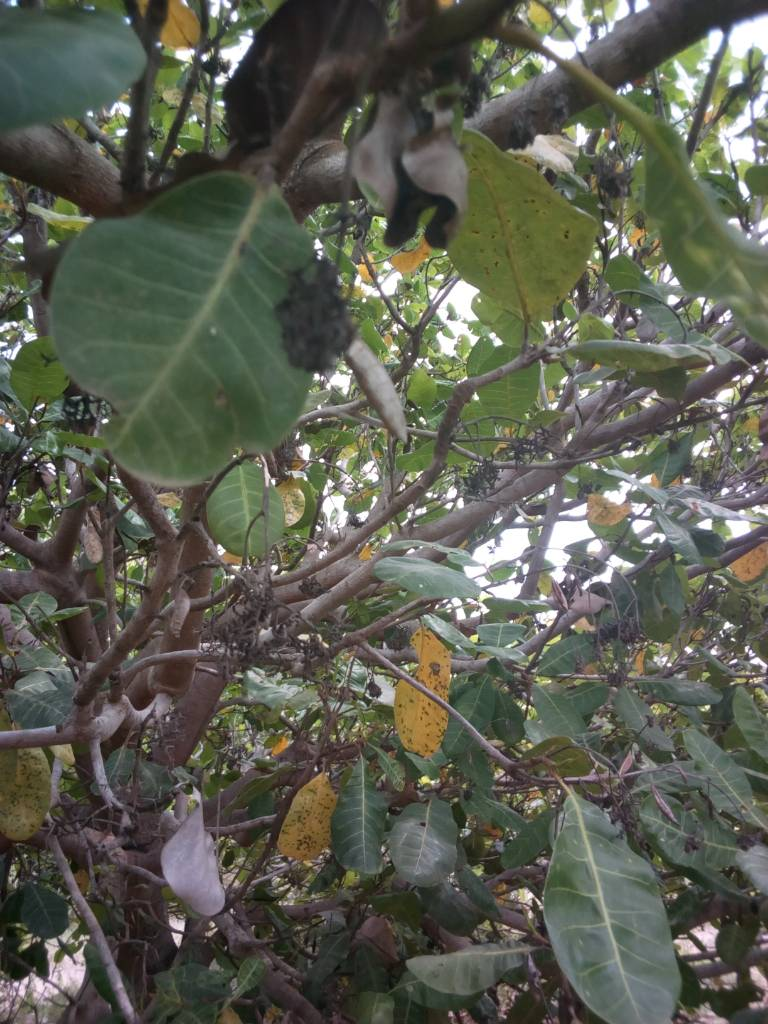Dessèchement des bourgeons: (52, 805, 158, 924), (211, 569, 315, 677), (580, 744, 660, 855)
